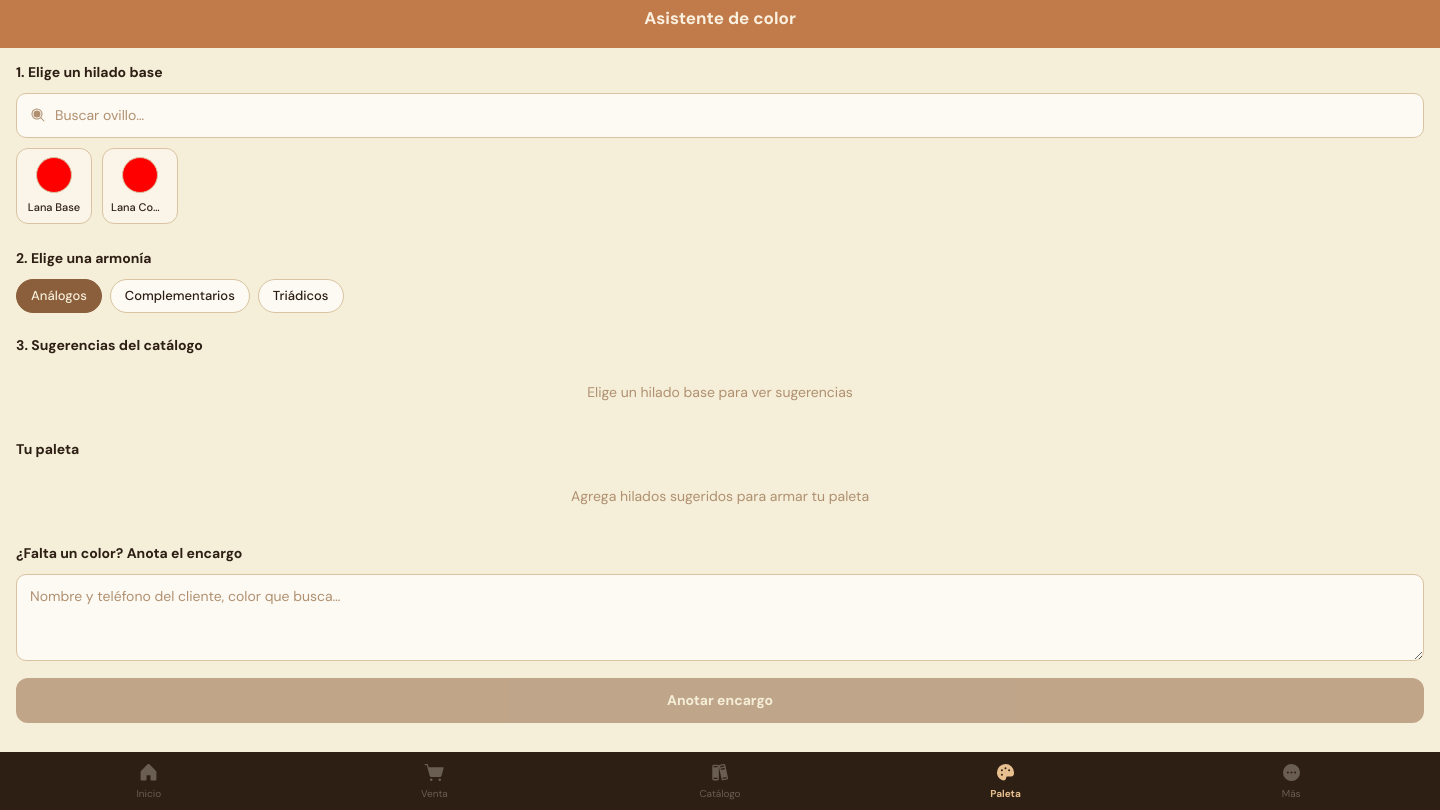
PaletaScreen › should_add_a_suggestion_remove_it_and_reorder_the_palette
Click the button "Lana Base": [54, 186] box [16,148,92,224]
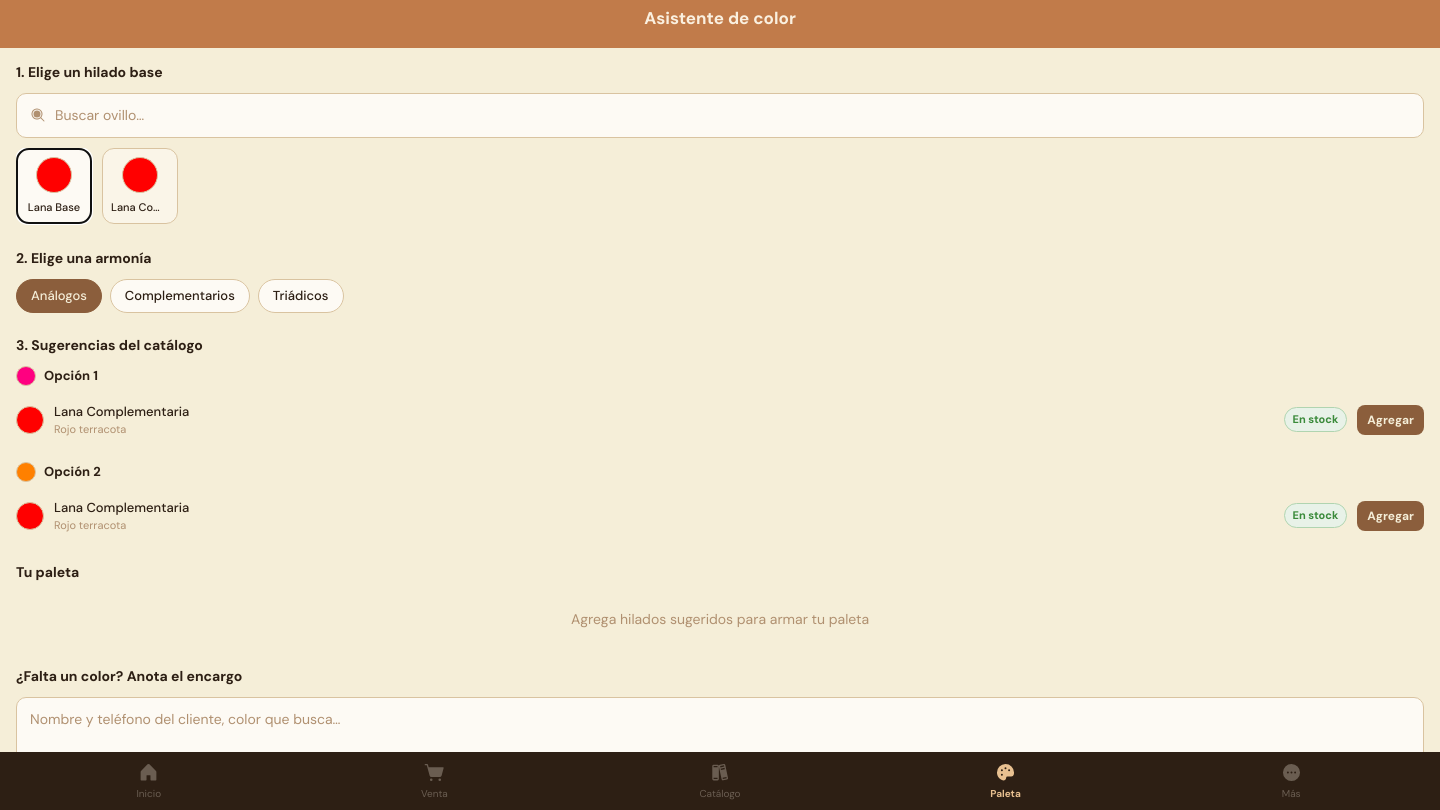
Click the button "Complementarios": [180, 296] box [110,279,250,312]
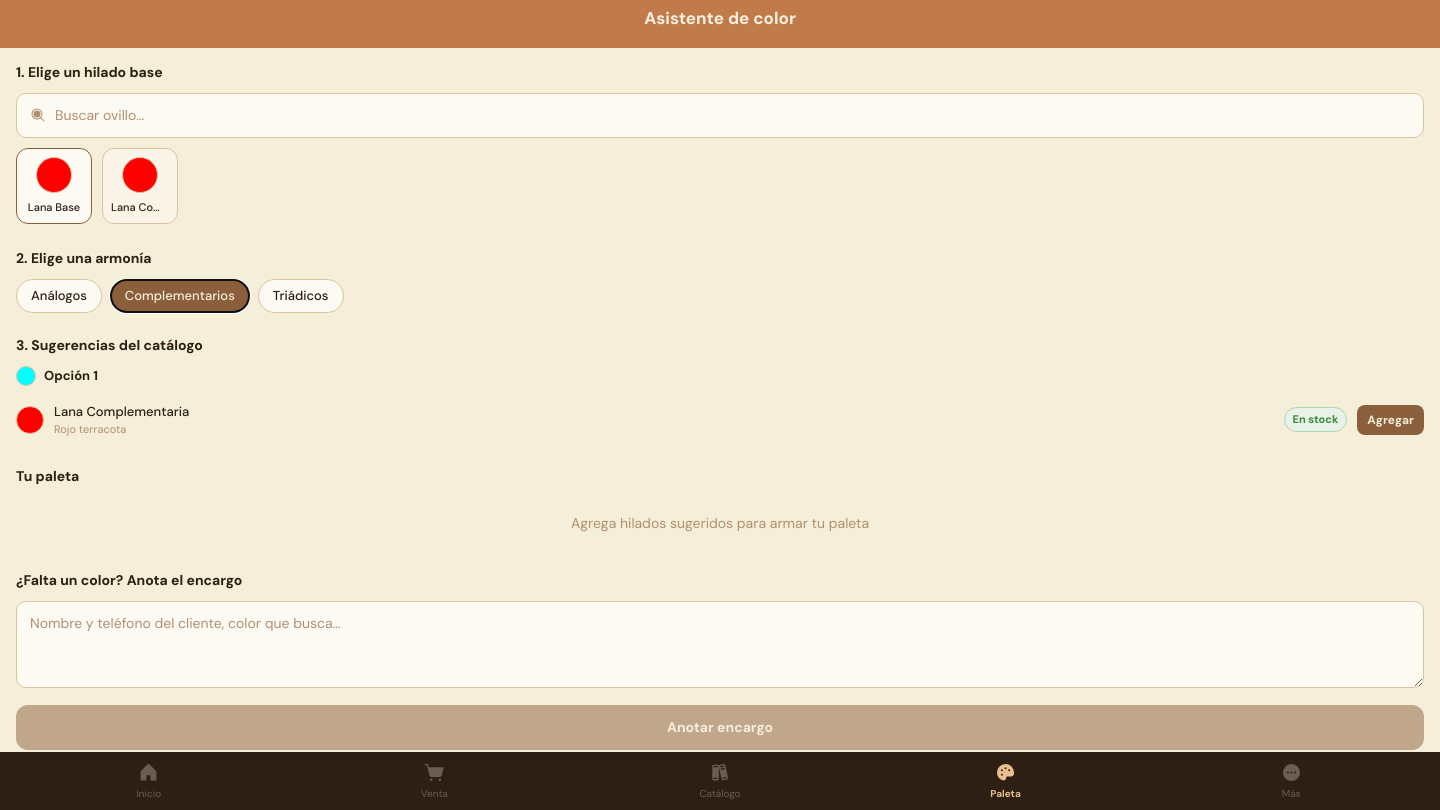
Click the button "Agregar": [1391, 420] box [1357,404,1424,434]
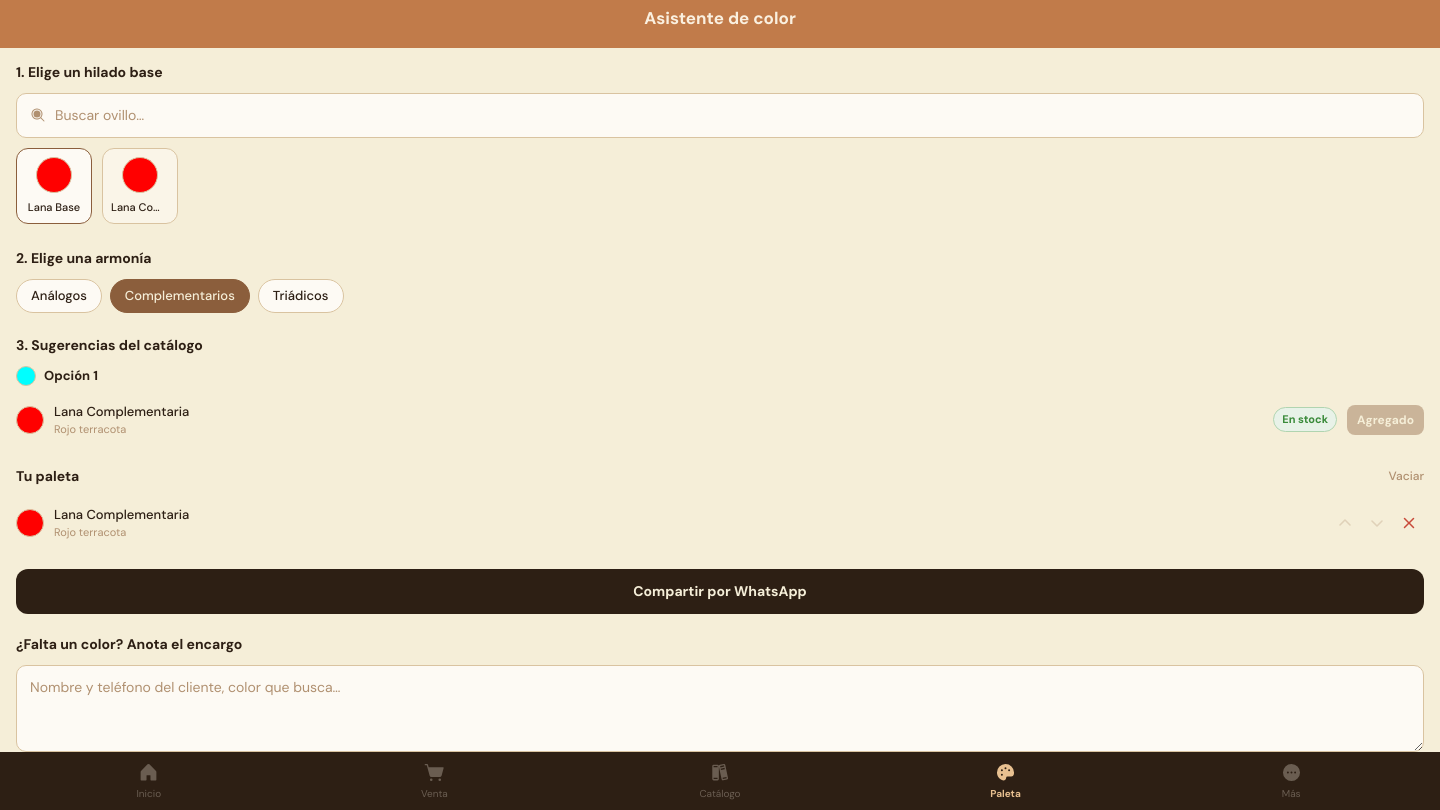
Check: the text "Agrega hilados sugeridos para armar tu paleta" is gone
Check: the button named "Quitar Lana Complementaria" is shown
Click the button named "Quitar Lana Complementaria": [1409, 522] box [1394,508,1424,538]
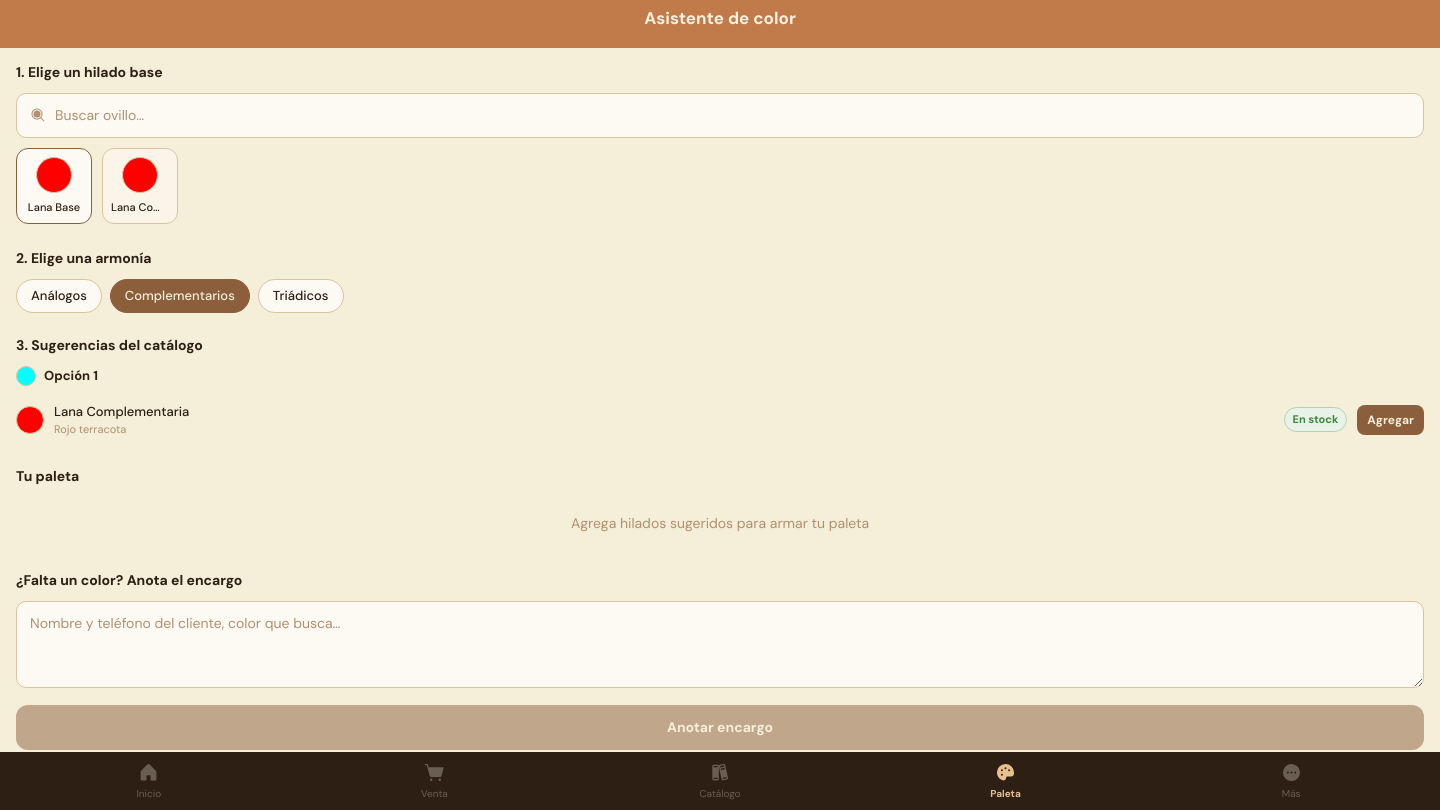
Check: the text "Agrega hilados sugeridos para armar tu paleta" is shown, box [571,514,869,532]
